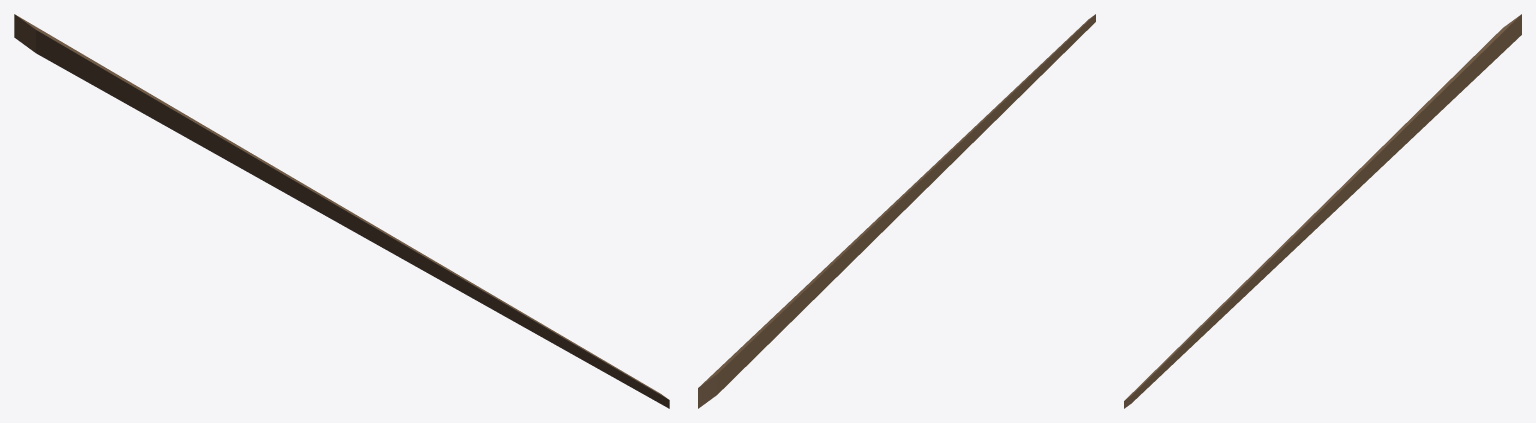
The model's file is Bireme_Hull.fbx.
3 views of the same model, side by side, from view 1: azimuth 30°, elevation 25°; view 2: azimuth 150°, elevation 25°; view 3: azimuth 330°, elevation 25° (orthographic). The views are drawn at different scales.
Visible parts, largest first — view 1: Bireme_Hull; view 2: Bireme_Hull; view 3: Bireme_Hull.
Part boxes in pixels (bbox=[...]): Bireme_Hull: bbox=[14, 14, 669, 408]; Bireme_Hull: bbox=[698, 14, 1095, 408]; Bireme_Hull: bbox=[1124, 14, 1521, 408].
Bounding box in the file's own units: 8 × 1.74 × 74.
